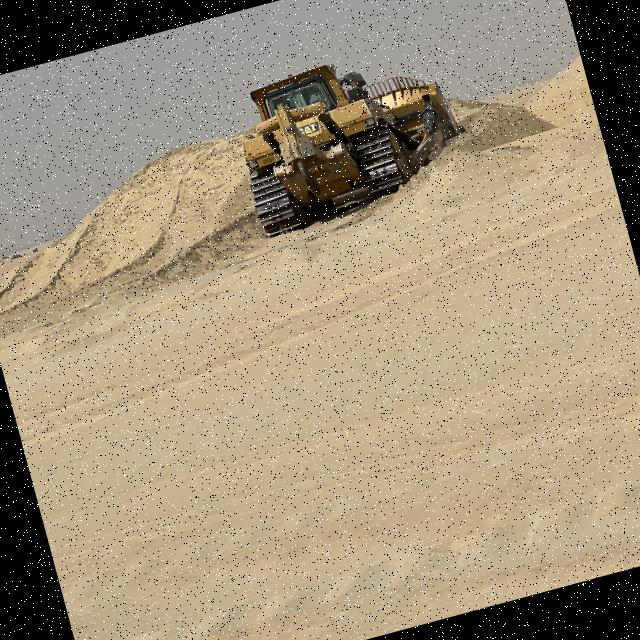Bulldozer: (215, 28, 479, 256)
